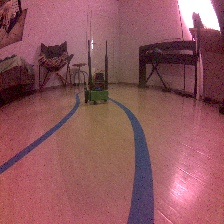rob: (83, 71, 109, 105)
